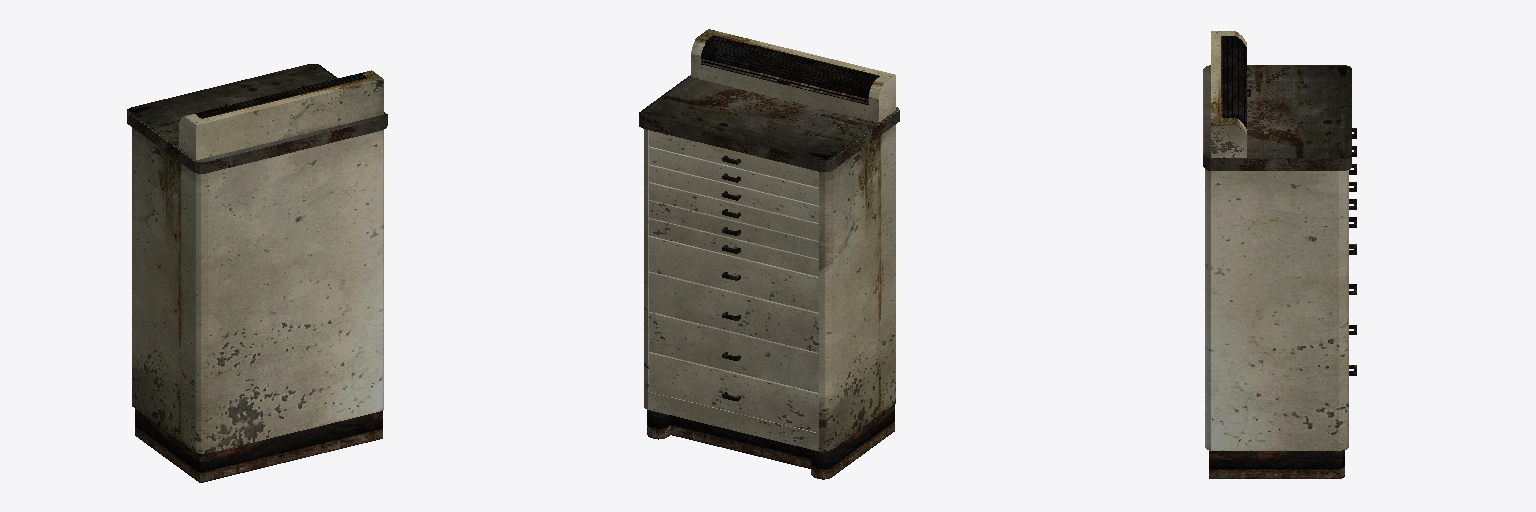
The picture shows the model from 3 angles: view 1: azimuth 30°, elevation 25°; view 2: azimuth 150°, elevation 25°; view 3: azimuth 270°, elevation 25°; orthographic projection.
Parts seen in each view (by area): view 1: bio_meddrawers; view 2: bio_meddrawers; view 3: bio_meddrawers.
Boxes of the visible parts, box(x1,y1,x2,y2) form: bio_meddrawers: box(127, 64, 387, 482); bio_meddrawers: box(639, 29, 899, 479); bio_meddrawers: box(1203, 31, 1356, 478).
Size of the model in its own units: 48.77 by 86.5 by 33.59.
Materials: 1 (1 with a texture image).